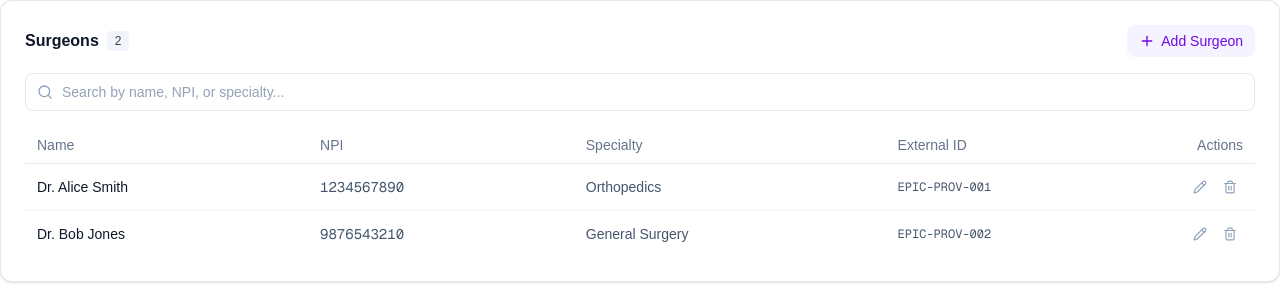
Test: SurgeonPool - Unit Tests › filters surgeons by name
expect the text "Dr. Alice Smith" is shown: met, box [25,164,308,210]
In the field with placeholder "Search by name, NPI, or specialty...": (640, 92) [25,73,1255,111], type "Alice"
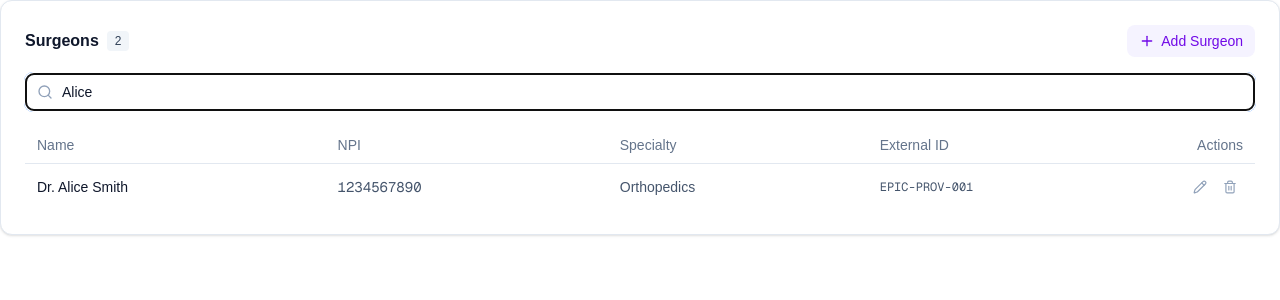
expect the text "Dr. Alice Smith" is shown: met, box [25,164,326,210]
expect the text "Dr. Bob Jones" is gone: met
